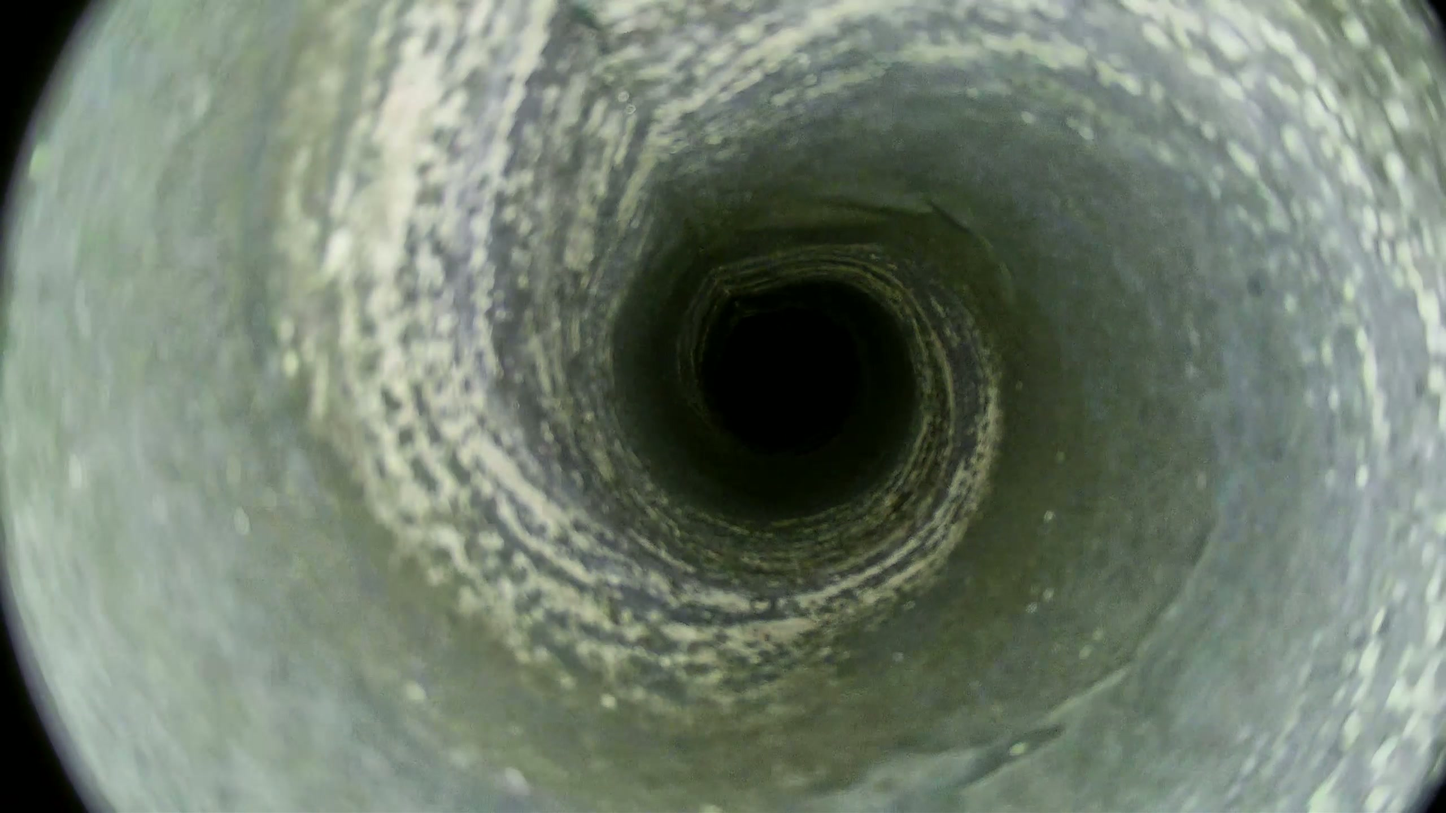hole: (713, 310, 859, 455)
